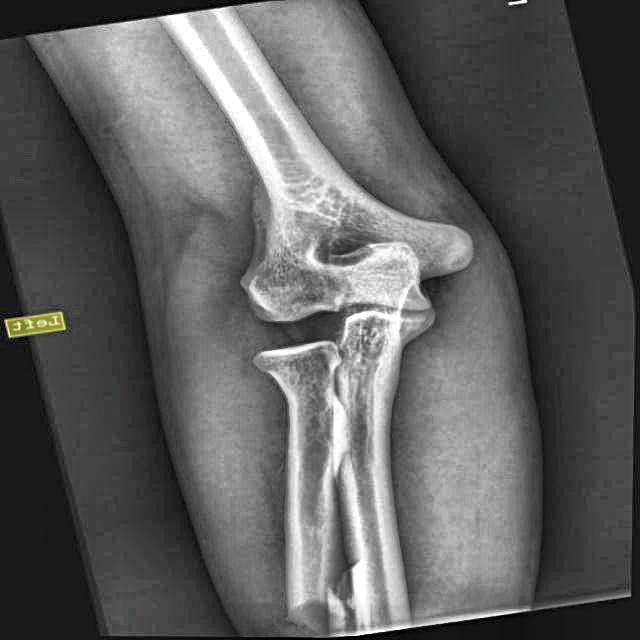Spiral: (283, 545, 415, 639)
